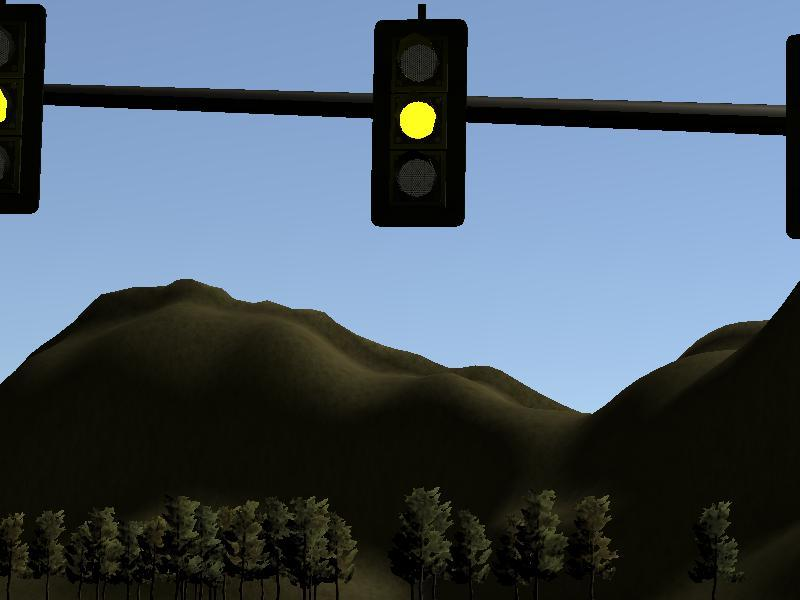Yellow: (371, 19, 466, 227), (1, 5, 45, 214)
